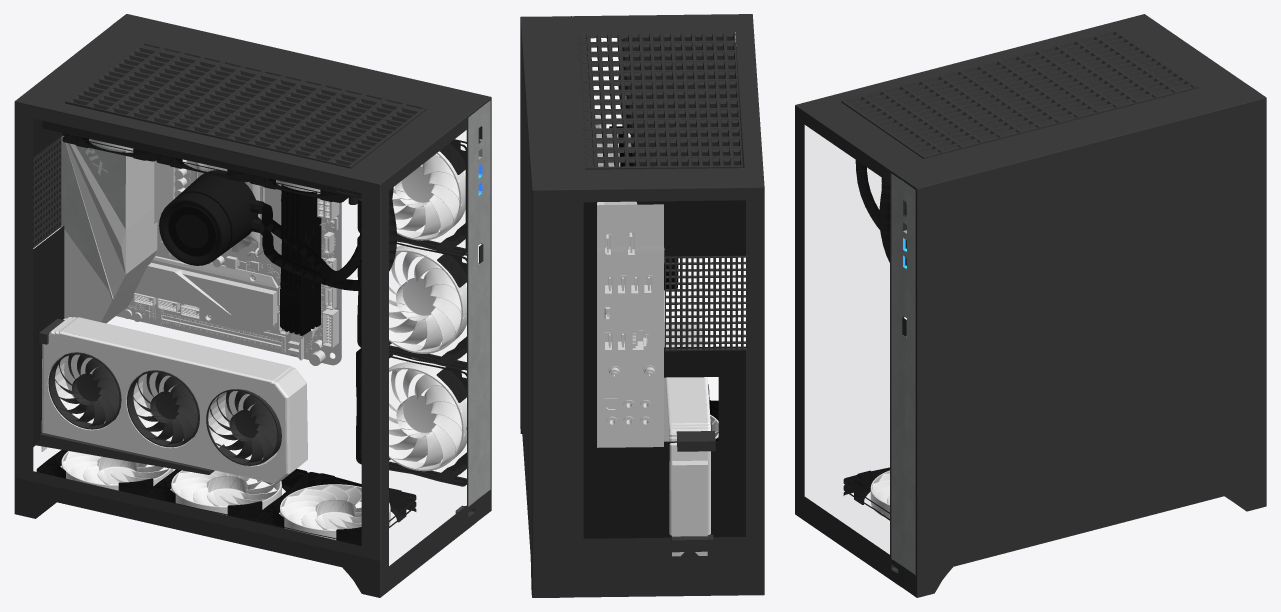
3 renders of one model, left to right at view 1: azimuth 30°, elevation 25°; view 2: azimuth 150°, elevation 25°; view 3: azimuth 270°, elevation 25°, orthographic.
Visible parts, largest first — view 1: frame, Motherboard, top mesh, gpu body, WATER BLOCK, case fan.002, case fan, RAMS, case fan.001, case back, case fan.005, fan 2 (+17 smaller); view 2: frame, case back, top mesh, Motherboard, gpu body, back mesh, RADIATOR, GPU STAND; view 3: frame, top mesh, PIPE, CASE FAN FRAME.005, case fan.005.
Boxes of the visible parts, left/top/right/bottom form: frame: left=14, top=14, right=491, bottom=597; Motherboard: left=60, top=136, right=341, bottom=365; top mesh: left=65, top=42, right=427, bottom=168; gpu body: left=41, top=317, right=307, bottom=483; WATER BLOCK: left=159, top=170, right=264, bottom=265; case fan.002: left=389, top=362, right=466, bottom=471; case fan: left=389, top=244, right=466, bottom=353; RAMS: left=280, top=185, right=321, bottom=335; case fan.001: left=392, top=151, right=465, bottom=240; case back: left=33, top=118, right=64, bottom=446; case fan.005: left=280, top=484, right=390, bottom=539; fan 2: left=127, top=370, right=199, bottom=447; frame: left=520, top=14, right=764, bottom=597; case back: left=583, top=200, right=745, bottom=538; top mesh: left=577, top=31, right=742, bottom=169; Motherboard: left=595, top=115, right=664, bottom=447; gpu body: left=664, top=321, right=710, bottom=556; back mesh: left=664, top=255, right=747, bottom=351; RADIATOR: left=622, top=36, right=744, bottom=204; GPU STAND: left=671, top=431, right=715, bottom=552; frame: left=795, top=14, right=1266, bottom=597; top mesh: left=841, top=30, right=1198, bottom=158; PIPE: left=855, top=160, right=889, bottom=262; CASE FAN FRAME.005: left=843, top=467, right=889, bottom=520; case fan.005: left=870, top=470, right=889, bottom=518.
Size of the model in its own units: 0.5799 by 0.6343 by 0.663.
18 materials, 1 textured.
